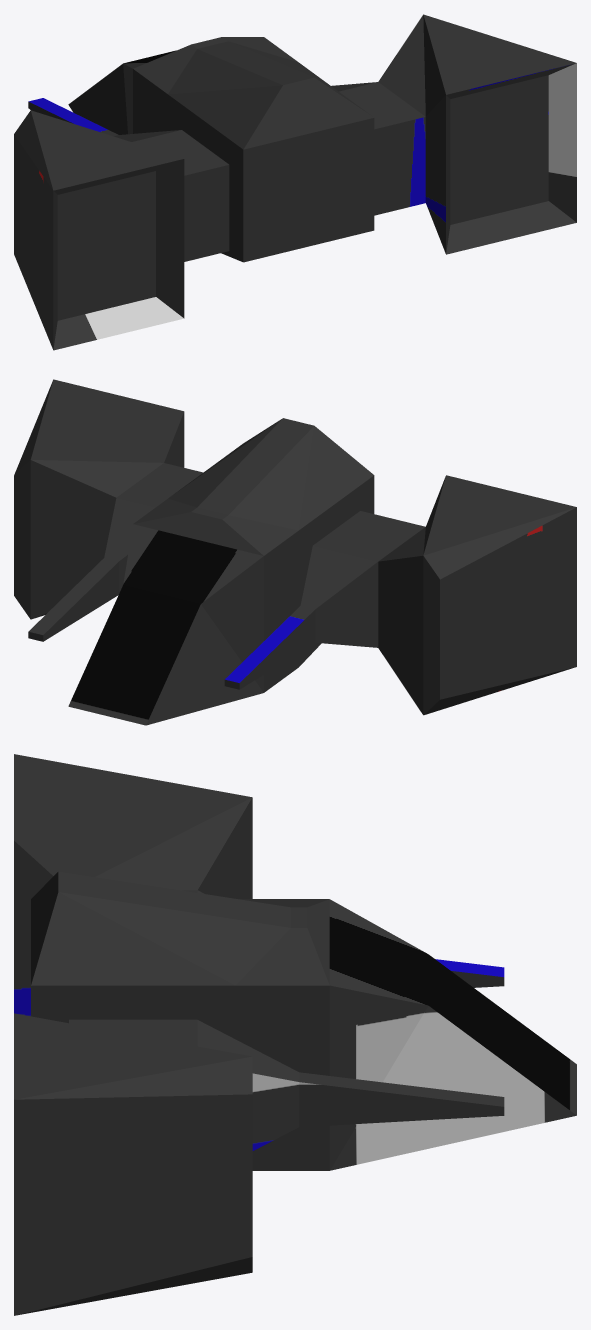
File: fighter_blocky_01.obj
3 renders of one model, top to bottom at view 1: azimuth 30°, elevation 25°; view 2: azimuth 150°, elevation 25°; view 3: azimuth 270°, elevation 25°, orthographic. The views are drawn at different scales.
Parts seen in each view (by area): view 1: Ship; view 2: Ship; view 3: Ship.
Part boxes in pixels (x1,y1,x2,y2): Ship: (14,14,576,350); Ship: (14,379,576,725); Ship: (14,754,576,1315).
Size of the model in its own units: 8 by 2.82 by 5.51.
